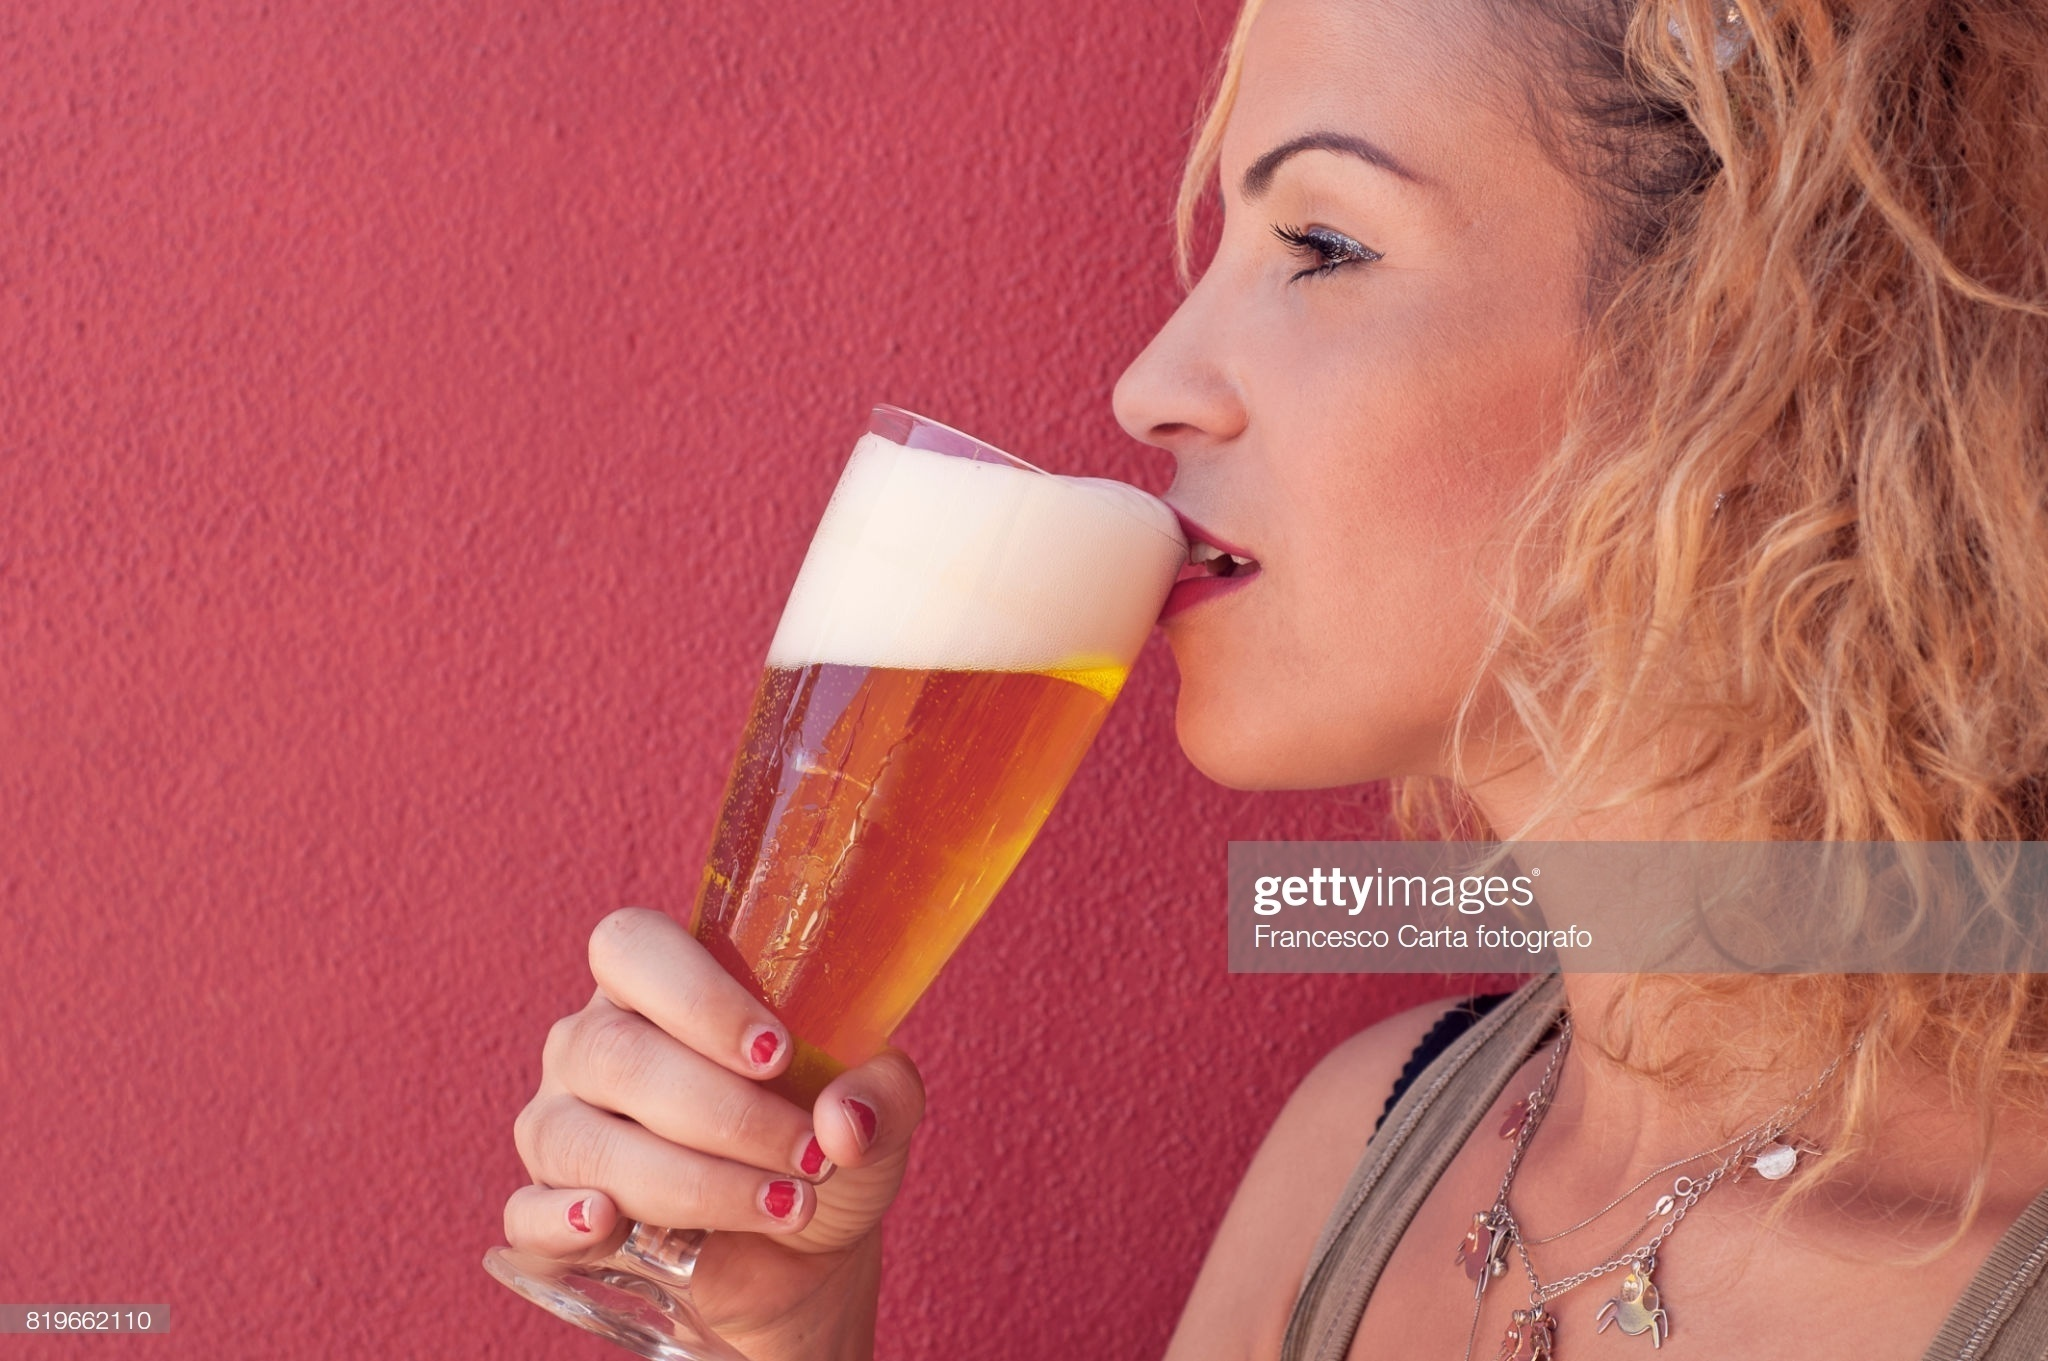whiskey: (455, 390, 1161, 1361)
